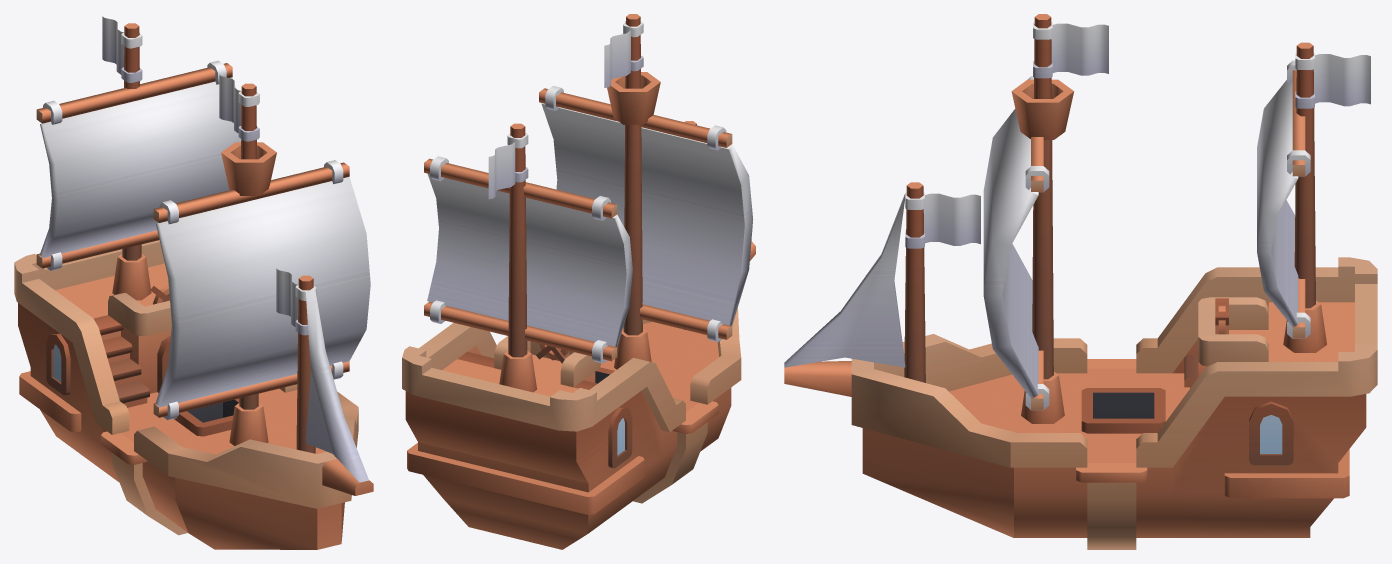
Rendered from ship-small.glb.
3 views of the same model, side by side, from view 1: azimuth 30°, elevation 25°; view 2: azimuth 150°, elevation 25°; view 3: azimuth 270°, elevation 25° (orthographic). The views are drawn at different scales.
Parts seen in each view (by area): view 1: ship-small, sail-a, sail-b, flag-b, flag-c, flag-a; view 2: ship-small, sail-a, sail-b, flag-c, flag-b; view 3: ship-small, sail-a, sail-b, flag-b, flag-a, flag-c.
Boxes of the visible parts, left/top/right/bottom form: ship-small: left=14, top=23, right=373, bottom=549; sail-a: left=153, top=160, right=370, bottom=419; sail-b: left=36, top=60, right=241, bottom=270; flag-b: left=219, top=73, right=259, bottom=141; flag-c: left=102, top=16, right=142, bottom=82; flag-a: left=276, top=268, right=316, bottom=335; ship-small: left=402, top=14, right=755, bottom=549; sail-a: left=539, top=86, right=753, bottom=341; sail-b: left=424, top=156, right=632, bottom=363; flag-c: left=488, top=133, right=528, bottom=199; flag-b: left=604, top=21, right=643, bottom=87; ship-small: left=784, top=14, right=1377, bottom=549; sail-a: left=983, top=76, right=1049, bottom=410; sail-b: left=1257, top=60, right=1310, bottom=338; flag-b: left=1033, top=22, right=1108, bottom=78; flag-a: left=905, top=192, right=980, bottom=248; flag-c: left=1295, top=52, right=1370, bottom=108.
Size of the model in its own units: 4.8 by 9.96 by 10.6.
1 material, 1 textured.
